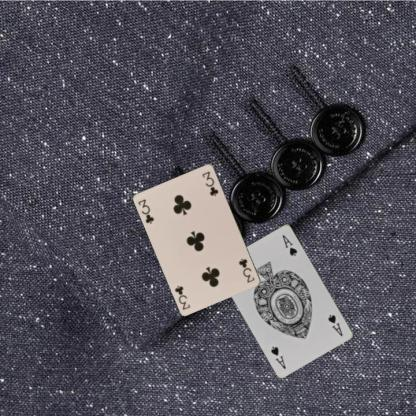3c: (136, 196, 155, 226), (236, 256, 256, 284)
As: (324, 312, 344, 337)
